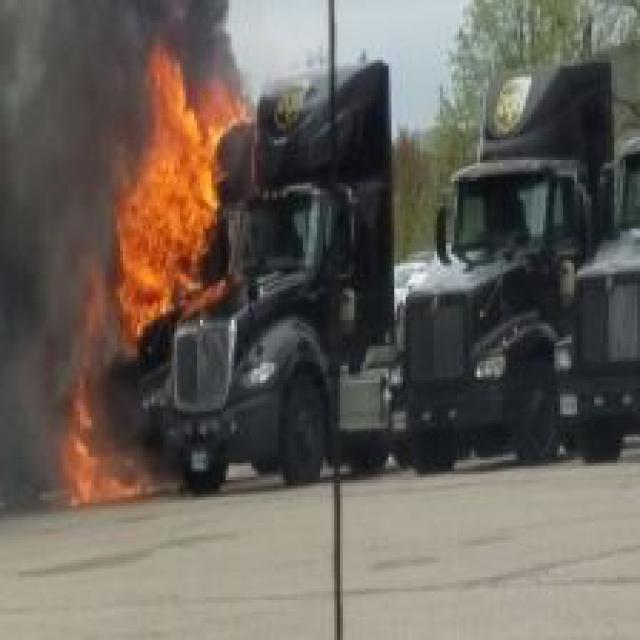fire: (77, 28, 260, 363), (51, 357, 143, 523)
